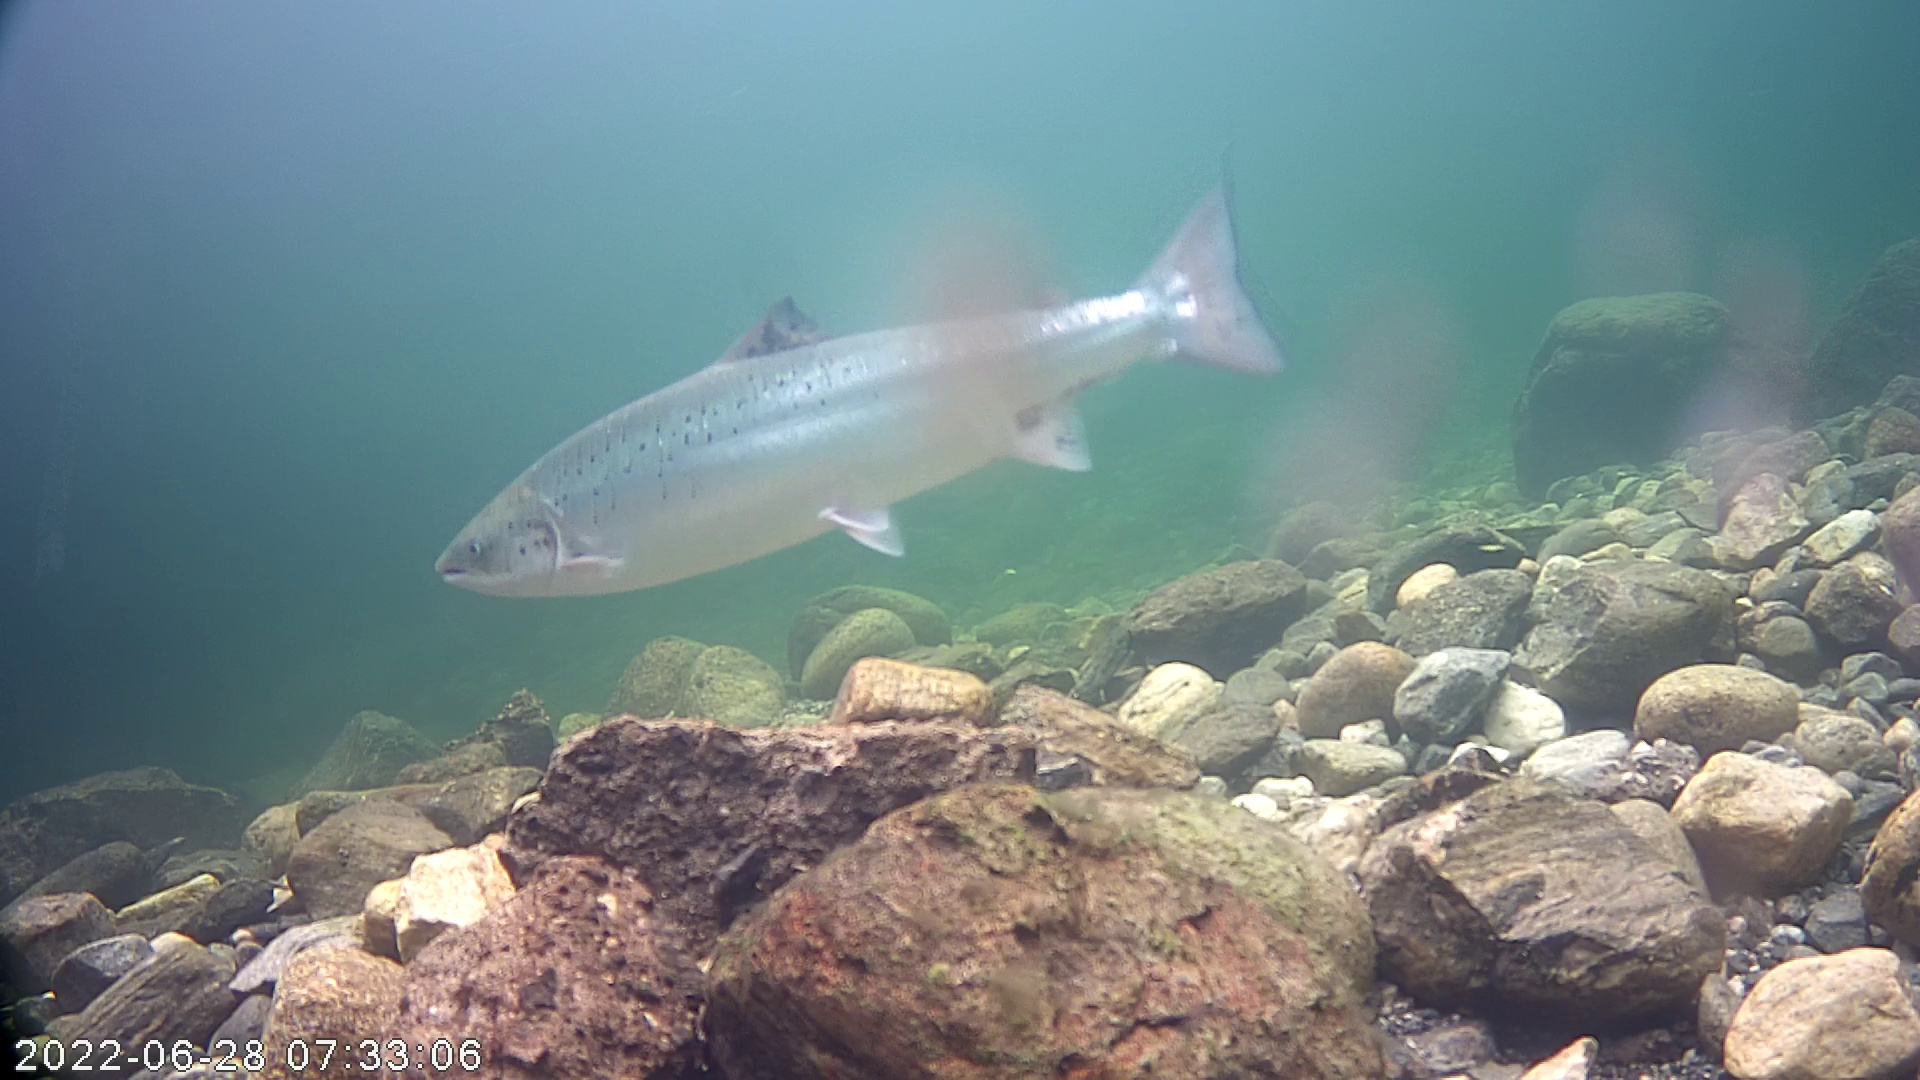salmon: (427, 131, 1307, 624)
